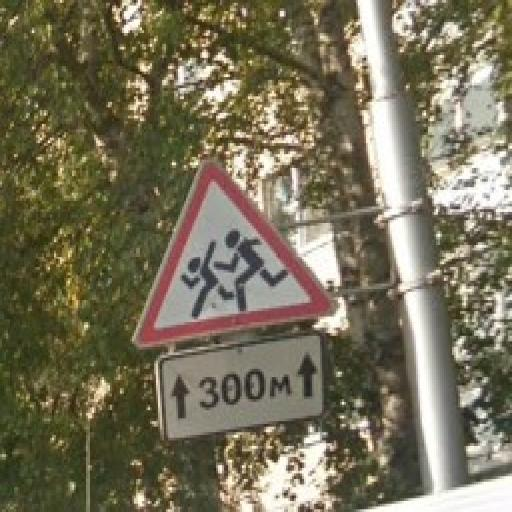traffic_sign: (133, 161, 339, 351)
